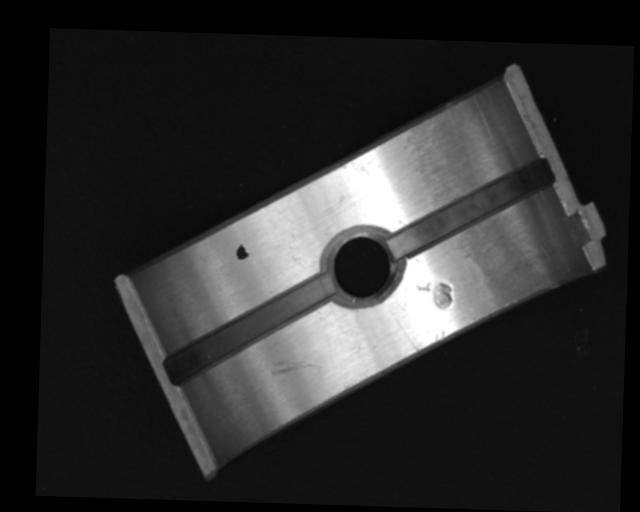blot: (235, 243, 249, 261)
bruise: (414, 279, 454, 311)
gap: (166, 268, 331, 389), (389, 154, 552, 261)
hole: (325, 225, 401, 308)
nick: (270, 358, 324, 378)
